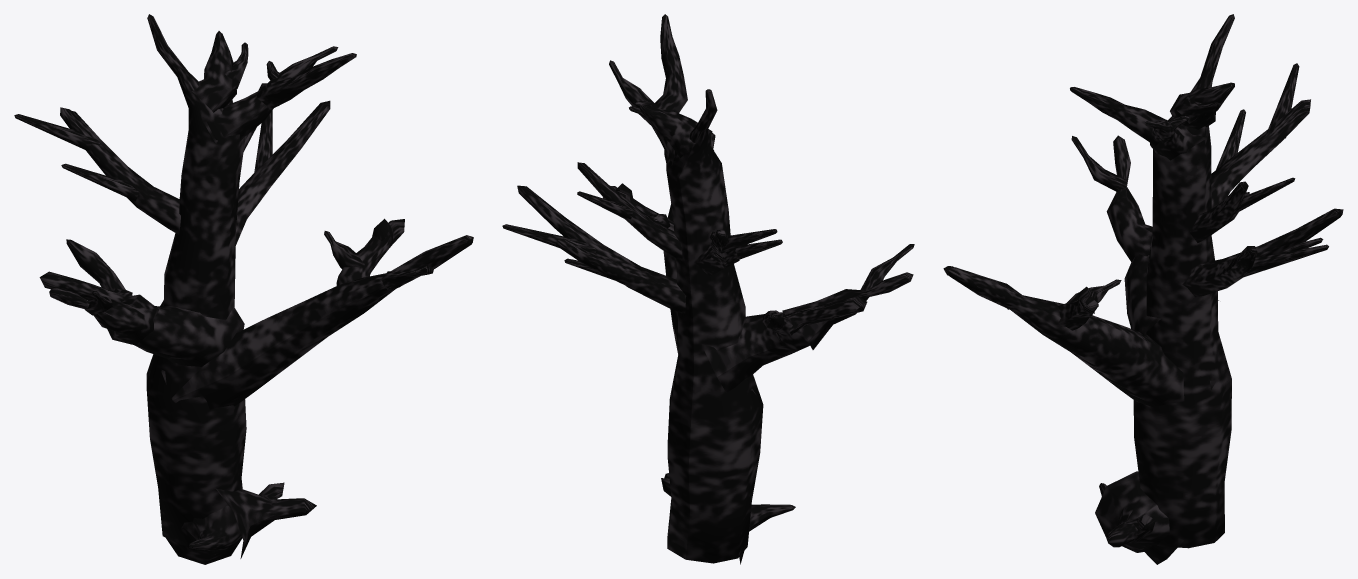
File: AraTree06a.glb
The picture shows the model from 3 angles, left to right: view 1: azimuth 30°, elevation 25°; view 2: azimuth 150°, elevation 25°; view 3: azimuth 270°, elevation 25°; orthographic projection. The views are drawn at different scales.
Parts seen in each view (by area): view 1: AraTree06a_limbs; view 2: AraTree06a_limbs; view 3: AraTree06a_limbs.
Part boxes in pixels (x1=…): AraTree06a_limbs: x1=14, y1=14, x2=473, y2=564; AraTree06a_limbs: x1=502, y1=14, x2=914, y2=564; AraTree06a_limbs: x1=943, y1=14, x2=1343, y2=564.
Size of the model in its own units: 5.08 by 7.39 by 5.03.
1 material, 1 textured.
